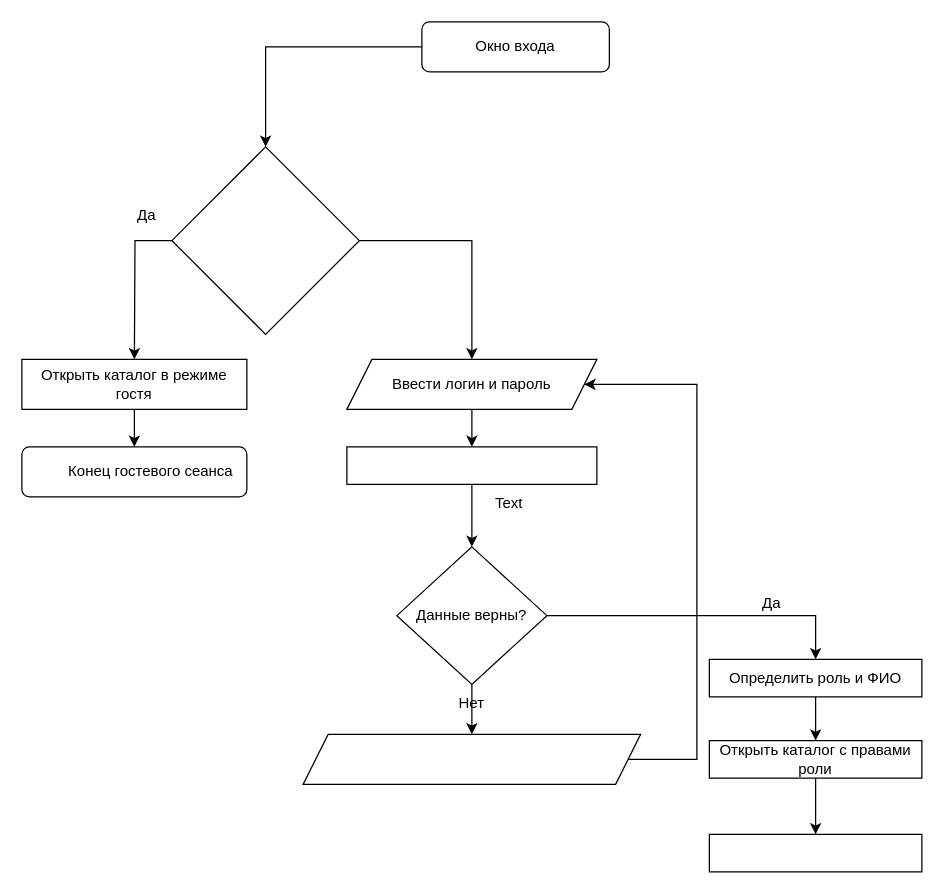
Image size: 944x894. Some labels were removed from this diagram. The box of each missing label's shape, as (x1, y1, x2, y2) in pixels:
Команда "Выйти": (708, 833, 922, 872)
Нажата кнопка "Гость"?: (171, 146, 359, 334)
Найти пользователя в БД и сверить пароль: (346, 446, 597, 484)
Сообщение: неверный логин или пароль: (302, 733, 641, 784)
